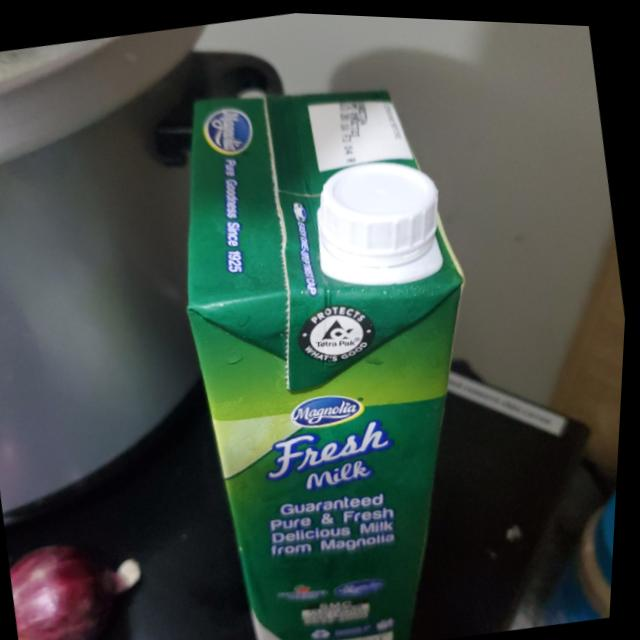milk: (139, 50, 535, 640)
onion: (8, 523, 166, 640)
